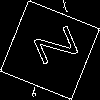Z: (25, 25, 79, 71)
